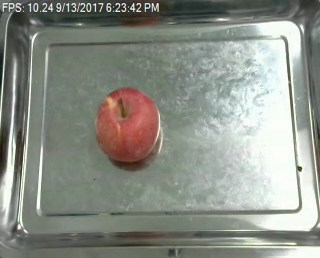Apple: (90, 83, 162, 166)
